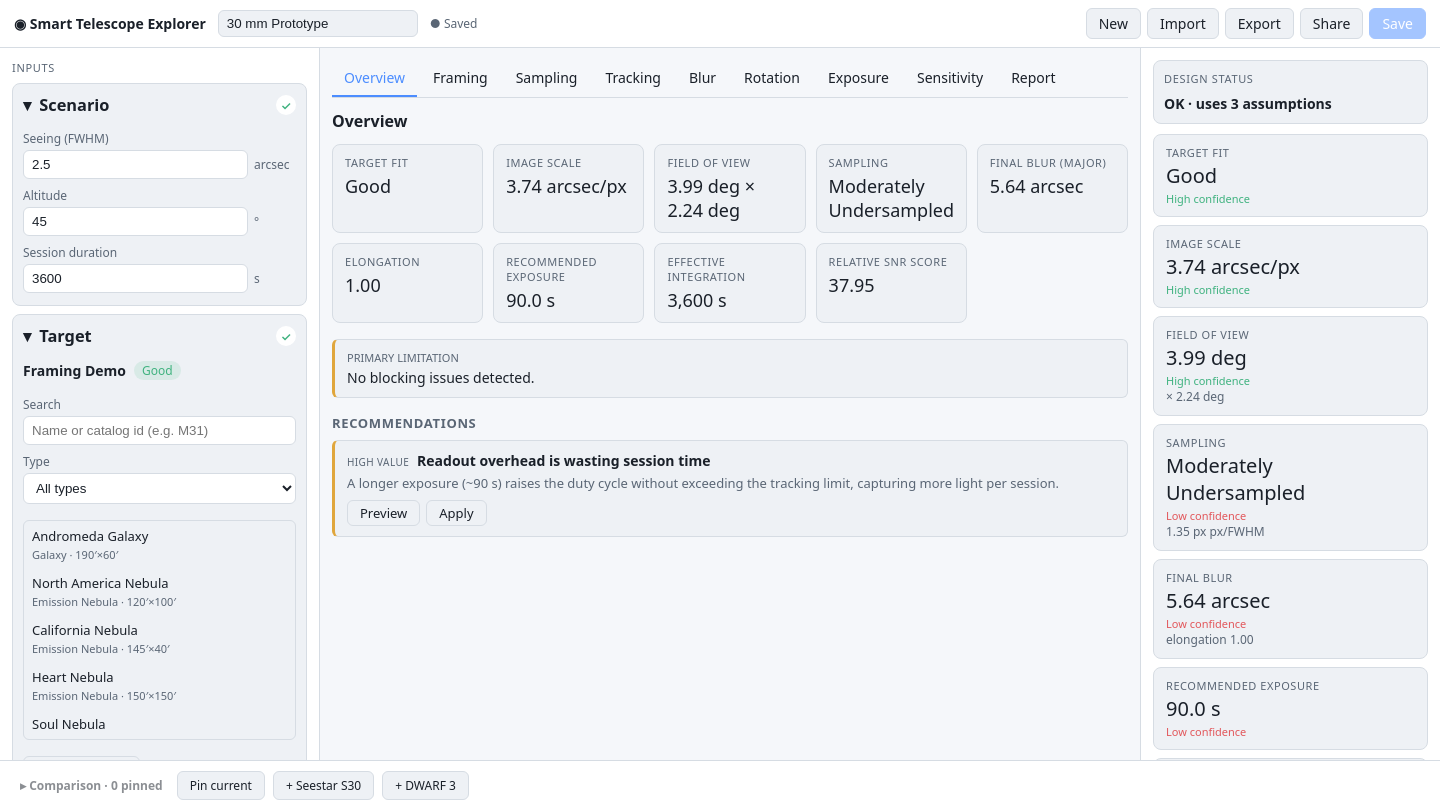
Test: report view (#6, spec v0.7 §18 / v0.8 §44) › renders the report with cover, summary, and sections
Click the tab "Report". click: (1033, 78)
box: [999, 60, 1068, 97]
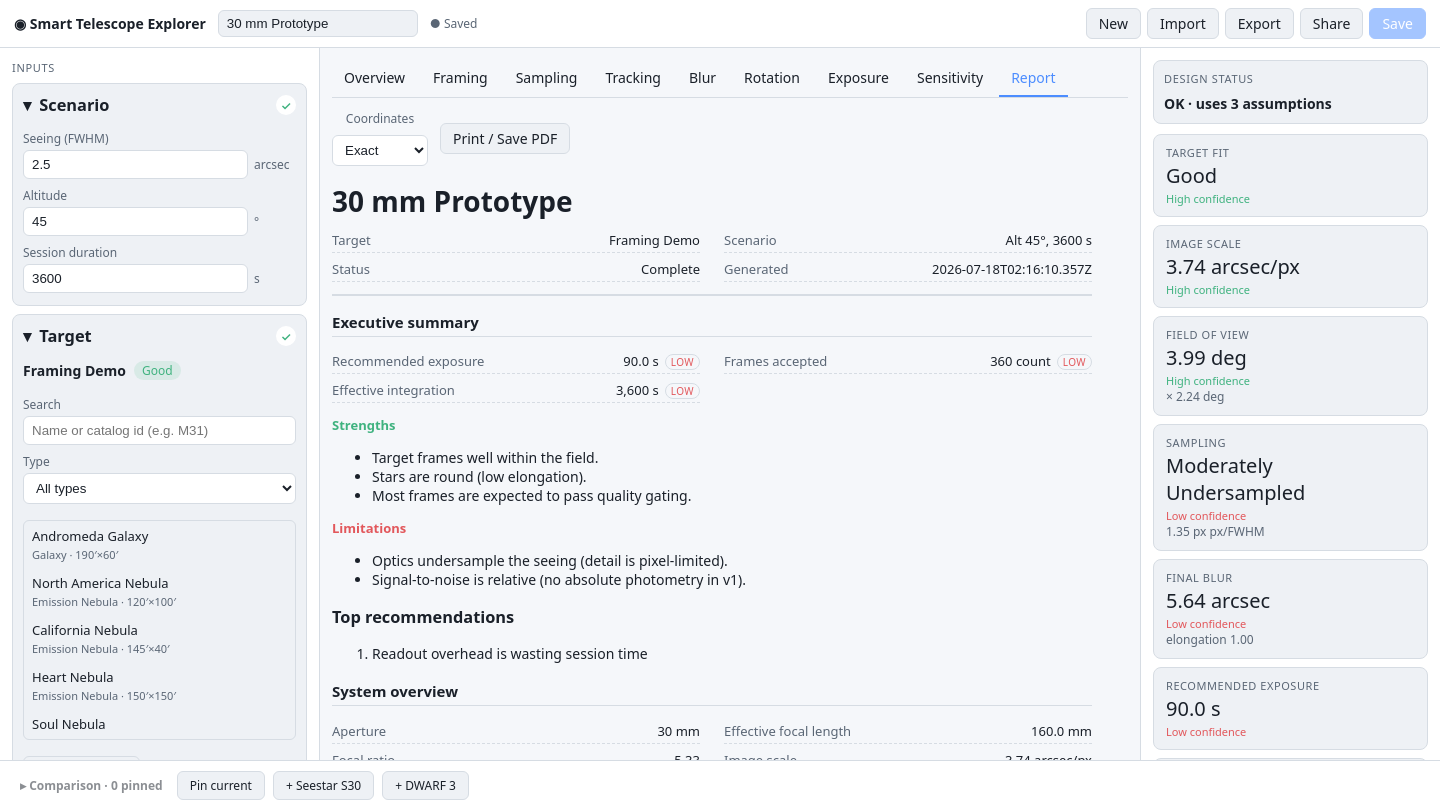
Expected: the heading "Executive summary" is shown, [332, 312, 1092, 337]
Expected: the heading "System overview" is shown, [332, 681, 1092, 706]
Expected: the list item "Signal-to-noise is relative (no absolute photometry in v1)." is shown, [372, 570, 746, 589]
